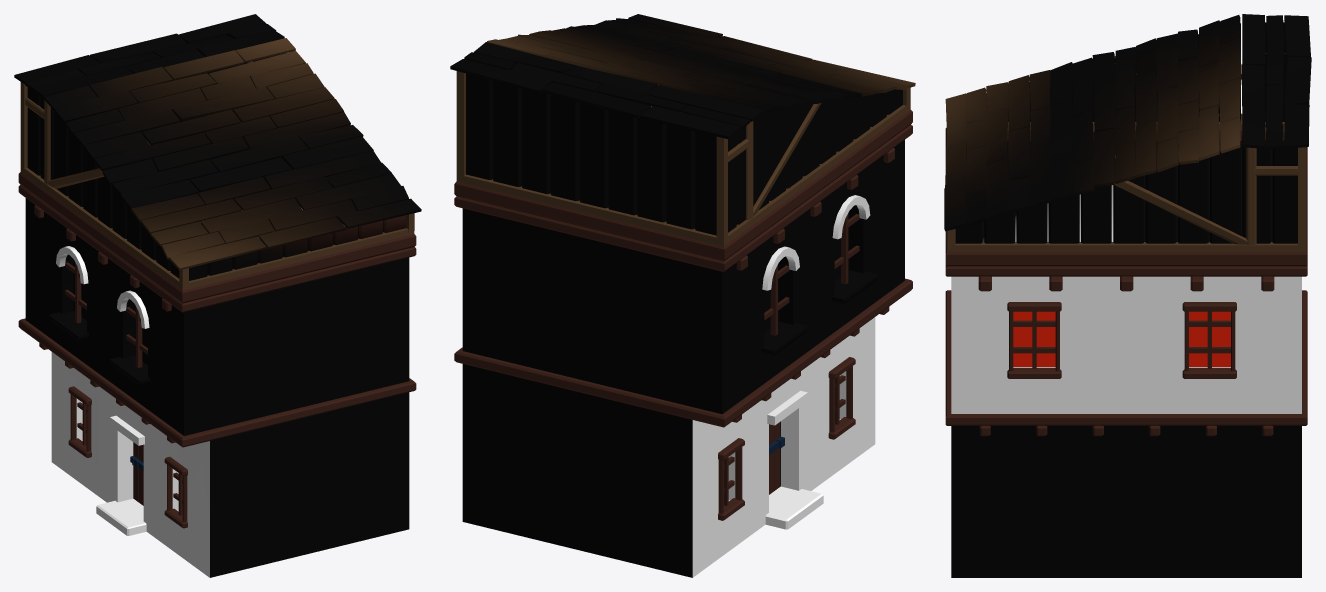
The model's file is civilian_house_37_g.FBX.
3 renders of one model, left to right at view 1: azimuth 30°, elevation 25°; view 2: azimuth 150°, elevation 25°; view 3: azimuth 270°, elevation 25°, orthographic. The views are drawn at different scales.
Parts seen in each view (by area): view 1: civilian_house_37_g; view 2: civilian_house_37_g; view 3: civilian_house_37_g.
Part boxes in pixels (x1,y1,x2,y2): civilian_house_37_g: (14,14,421,577); civilian_house_37_g: (450,14,915,577); civilian_house_37_g: (944,14,1311,577).
Bounding box in the file's own units: 632 × 964 × 733.
